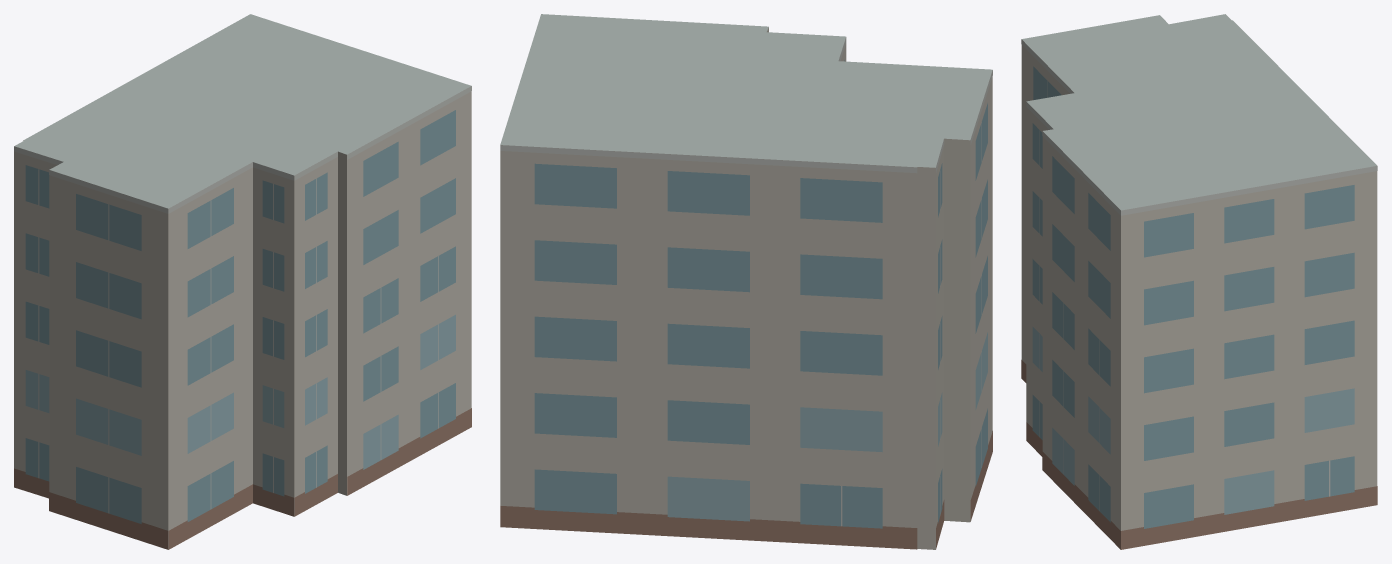
The model's file is survey-upis-32959221.glb.
The picture shows the model from 3 angles, left to right: view 1: azimuth 30°, elevation 25°; view 2: azimuth 150°, elevation 25°; view 3: azimuth 270°, elevation 25°; orthographic projection. The views are drawn at different scales.
Visible parts, largest first — view 1: survey-upis-32959221.tmp; view 2: survey-upis-32959221.tmp; view 3: survey-upis-32959221.tmp.
Boxes of the visible parts, x1,y1,x2,y2 form: survey-upis-32959221.tmp: (14,14,471,549); survey-upis-32959221.tmp: (500,14,992,549); survey-upis-32959221.tmp: (1021,14,1377,549).
Size of the model in its own units: 19.64 by 15.8 by 15.03.
